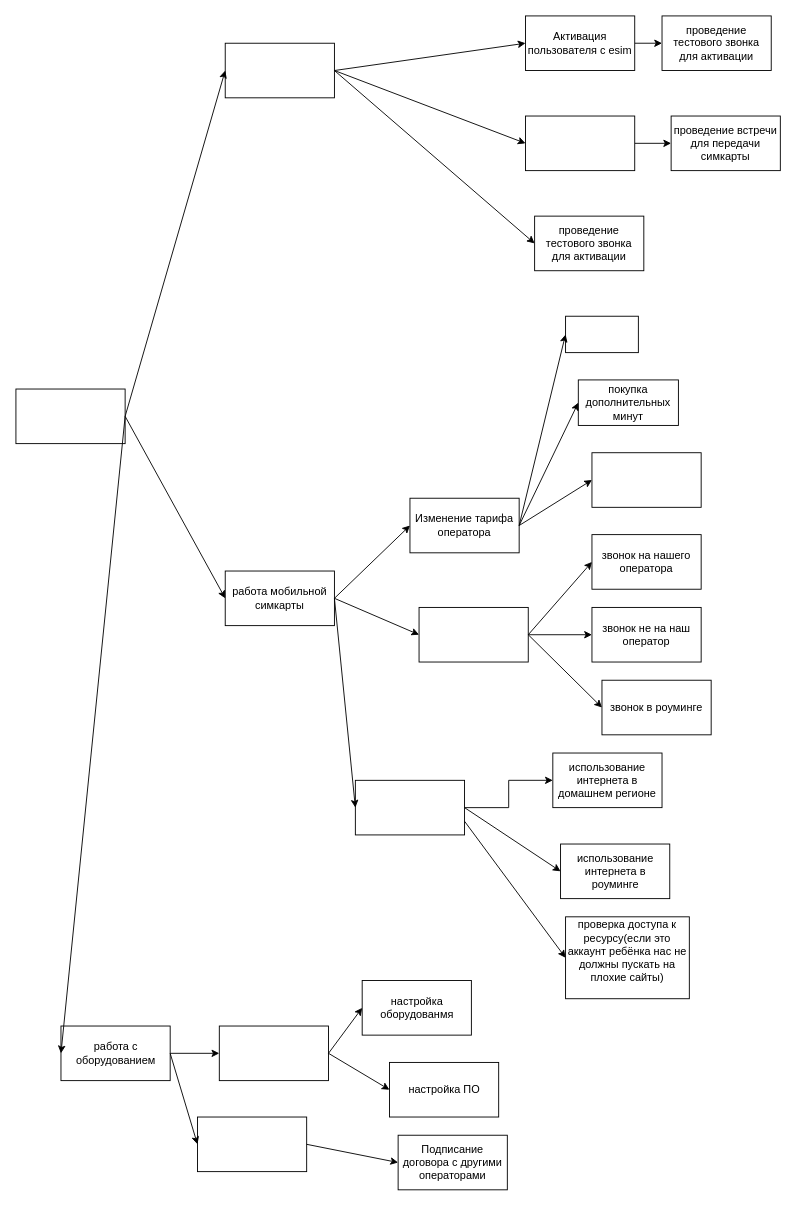
The diagram is 796 pixels wide and 1206 high, and some of its shapes have lost their labels. The shapes that lost their labels are listed below. From the top down, each one's box as (x1, y1, x2, y2) in pixels, then its label:
(224, 42, 334, 98): Создание нового абонента
(525, 115, 635, 171): Активация пользователя с обычной симкартой
(565, 315, 638, 353): Добавление связанных абонентов
(15, 388, 125, 444): работа мобильного оператора
(591, 452, 701, 507): покупка дополнительных ГБ
(418, 607, 528, 662): проведение звонка
(354, 779, 465, 835): использование интернета
(218, 1025, 329, 1081): работа с нашими вышками
(197, 1116, 307, 1172): Интеграция с вышками других операторов
